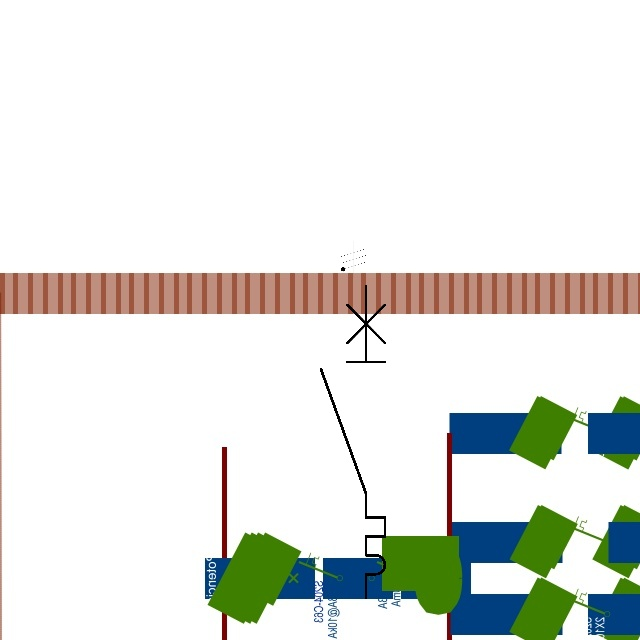interruptor_termomagnetico: (313, 278, 393, 606)
